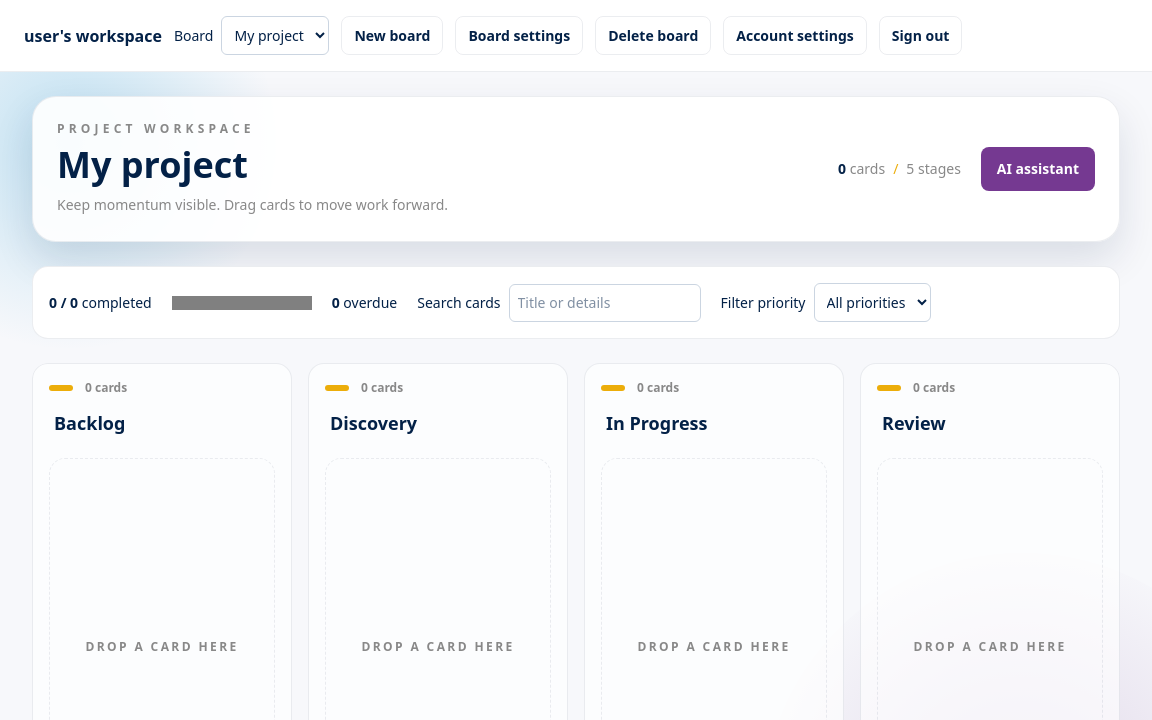
Test: AuthGate › shows a visible error when signing out fails
Click the button "Sign out". click: point(921, 36)
box: [879,16,962,55]
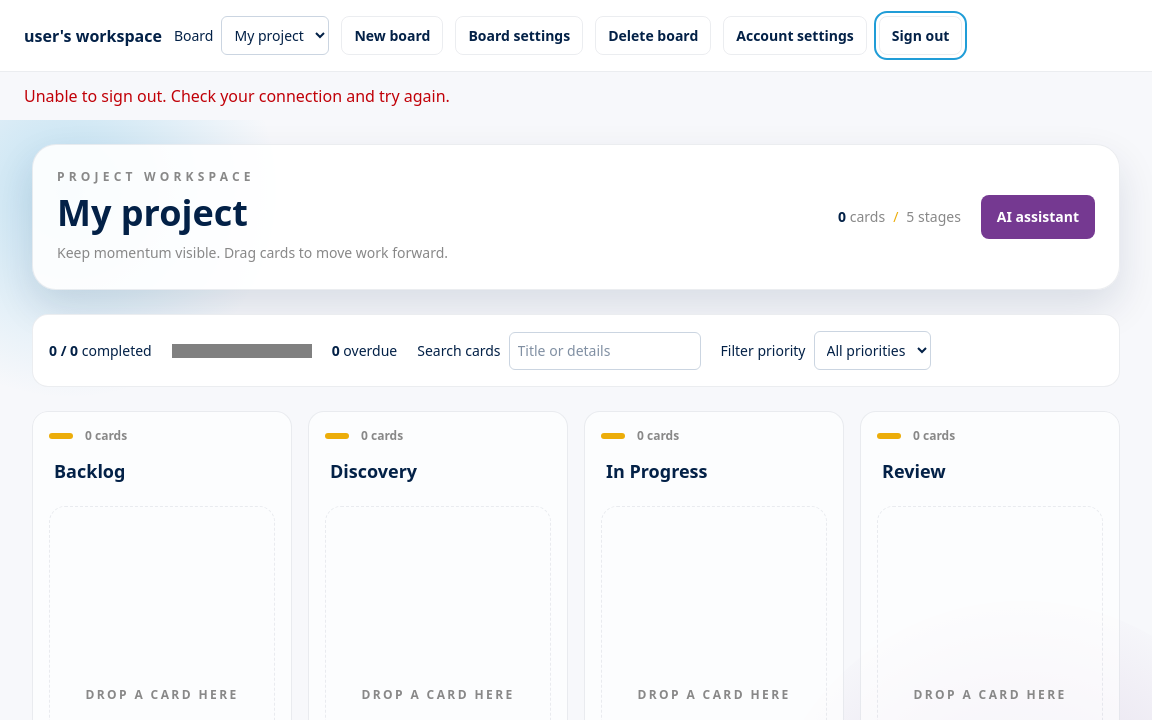
Expected: the message reads "Unable to sign out. Check your connection and try again.", [24,85,450,107]
